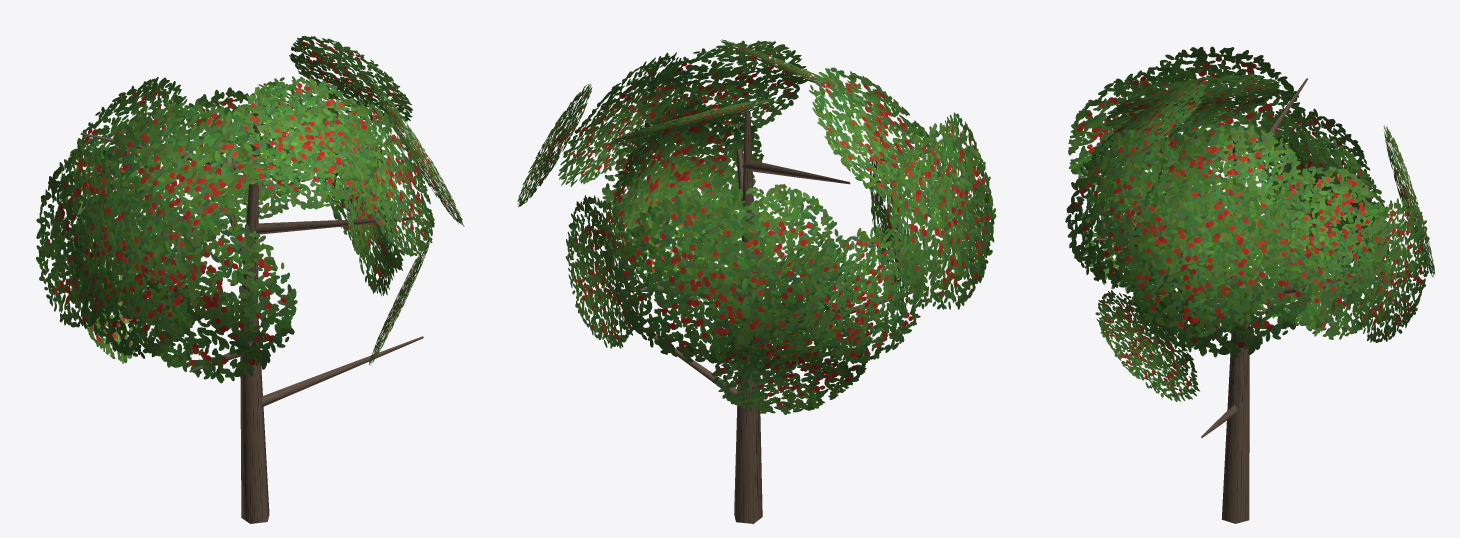
Rendered from Apple_LOD1.fbx.
3 views of the same model, side by side, from view 1: azimuth 30°, elevation 25°; view 2: azimuth 150°, elevation 25°; view 3: azimuth 270°, elevation 25° (orthographic). The views are drawn at different scales.
Visible parts, largest first — view 1: Apple_LOD1; view 2: Apple_LOD1; view 3: Apple_LOD1.
Part boxes in pixels (x1=…): Apple_LOD1: x1=36, y1=35, x2=464, y2=523; Apple_LOD1: x1=517, y1=39, x2=996, y2=523; Apple_LOD1: x1=1065, y1=46, x2=1434, y2=523.
Bounding box in the file's own units: 5.56 × 6.06 × 5.07.
Materials: 1 (1 with a texture image).
